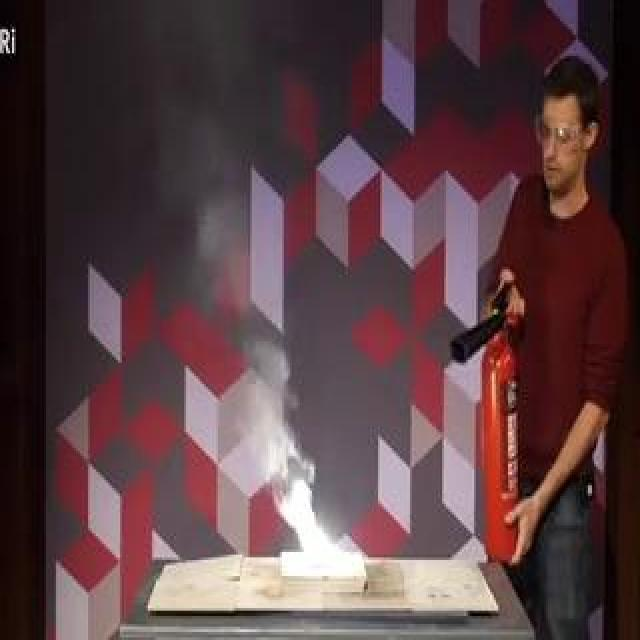Fire: (283, 485, 345, 568)
Smoke: (143, 39, 311, 478)
